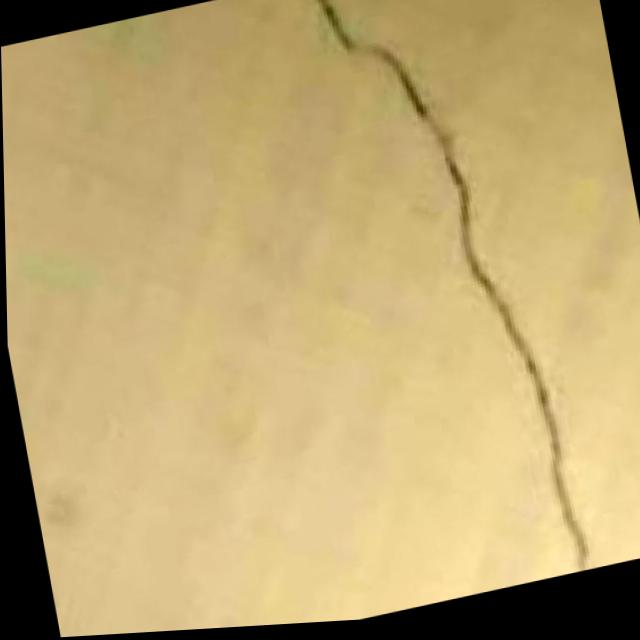Crack: (285, 0, 600, 620)
